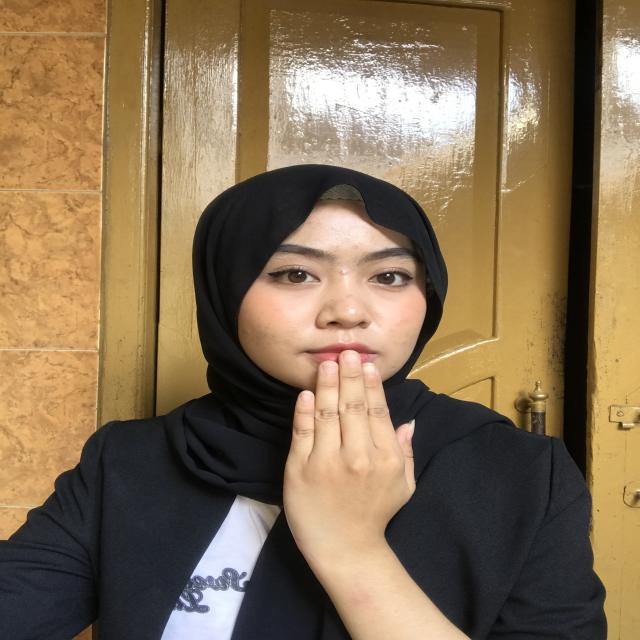ganteng: (264, 341, 434, 546)
